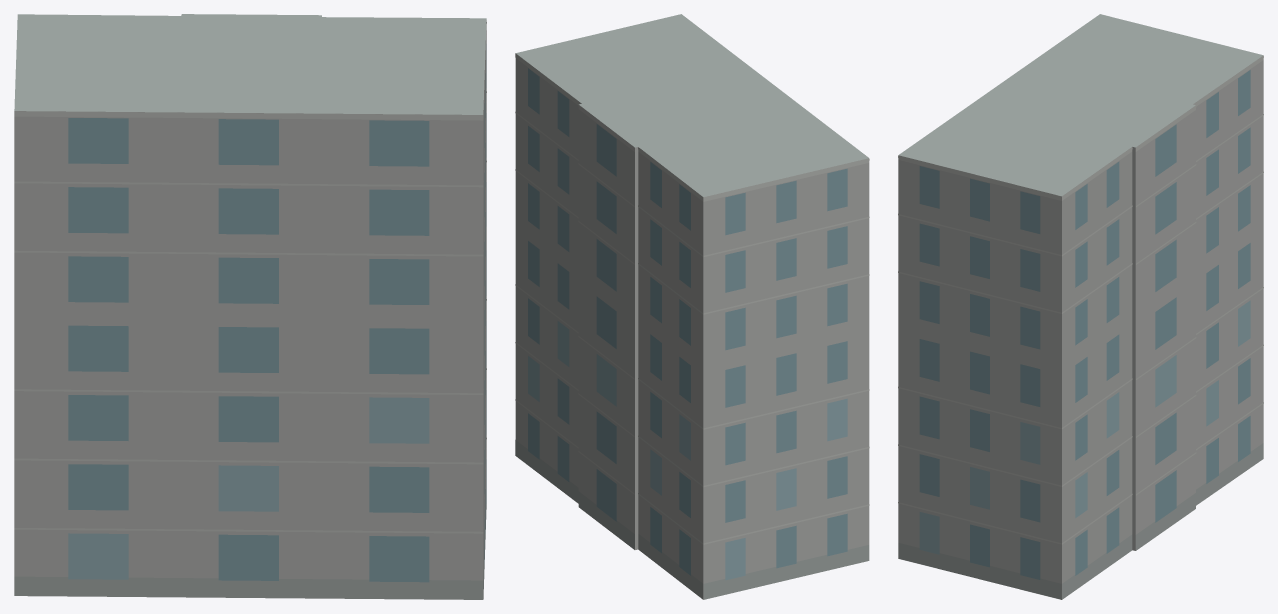
The model's file is survey-upis-32993474.glb.
The picture shows the model from 3 angles, left to right: view 1: azimuth 30°, elevation 25°; view 2: azimuth 150°, elevation 25°; view 3: azimuth 270°, elevation 25°; orthographic projection. The views are drawn at different scales.
Parts seen in each view (by area): view 1: survey-upis-32993474.tmp; view 2: survey-upis-32993474.tmp; view 3: survey-upis-32993474.tmp.
Boxes of the visible parts, x1,y1,x2,y2 form: survey-upis-32993474.tmp: (14, 14, 486, 599); survey-upis-32993474.tmp: (515, 14, 869, 599); survey-upis-32993474.tmp: (898, 14, 1263, 599).
Bounding box in the file's own units: 20.72 × 21.35 × 17.55.
